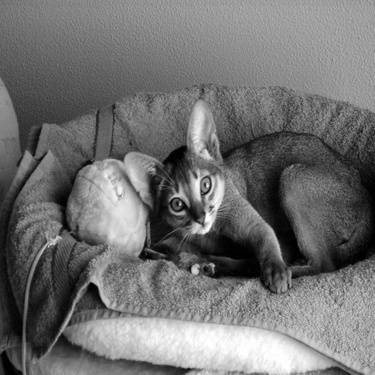cat: (122, 95, 368, 296)
